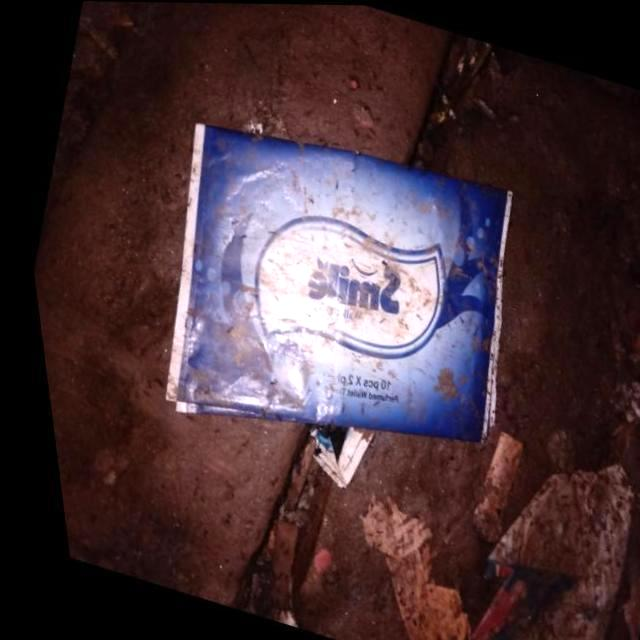packet: (120, 97, 554, 479)
